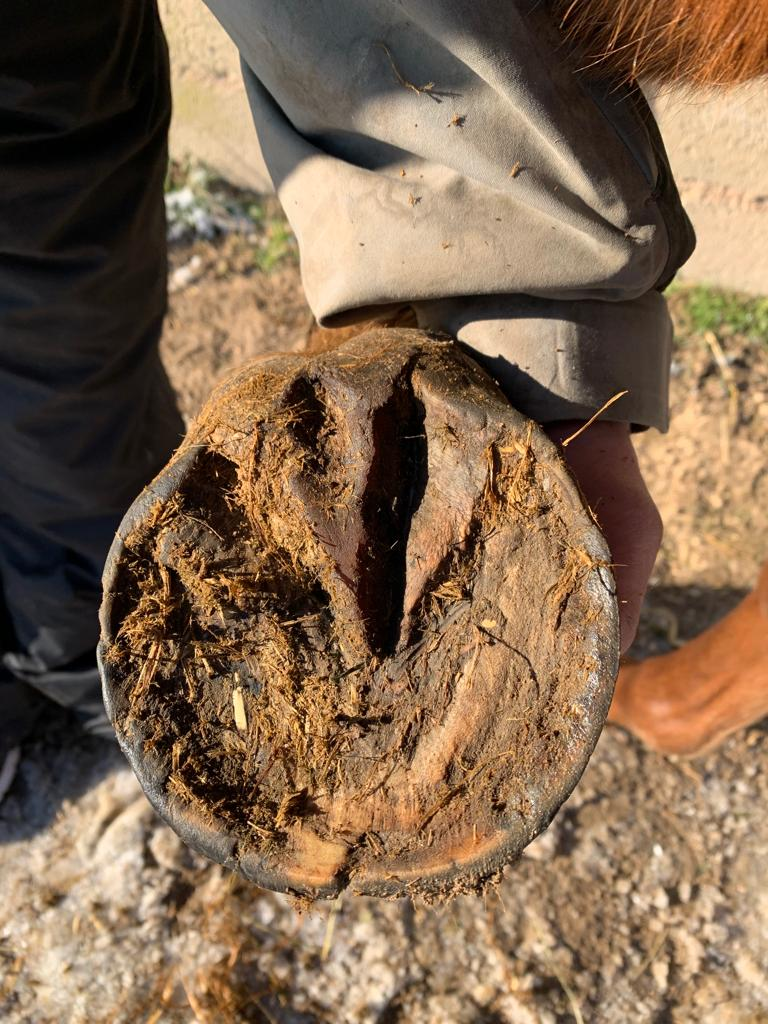horsesole: (97, 383, 621, 897)
